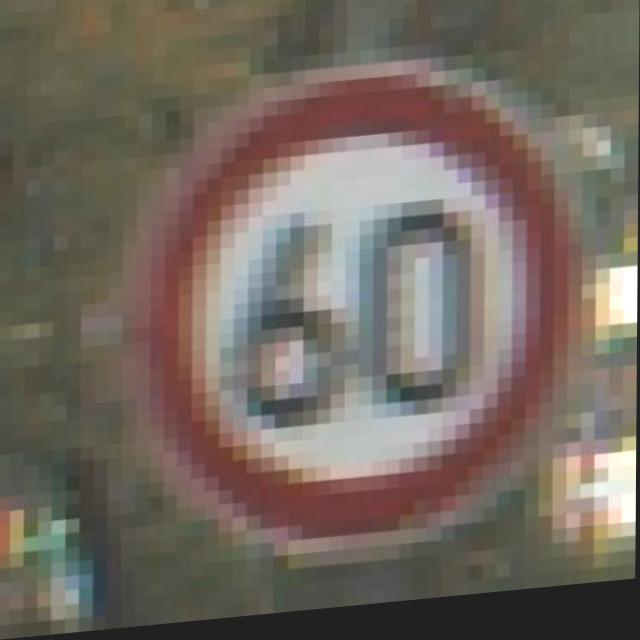limit60: (112, 55, 602, 584)
